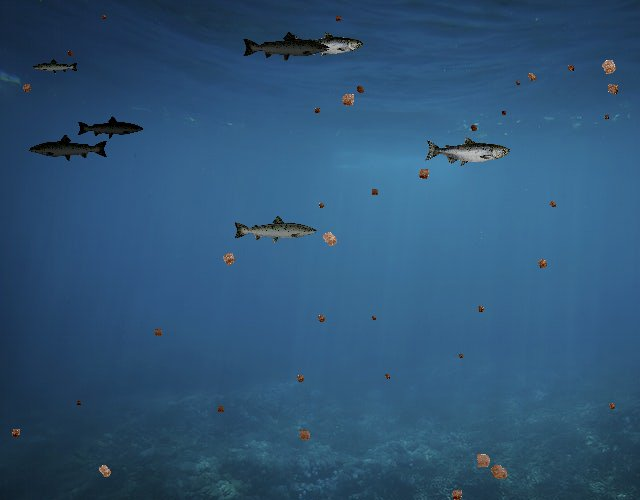Fish: (241, 31, 331, 63), (232, 214, 318, 245), (424, 136, 510, 167), (29, 133, 110, 162), (291, 32, 364, 58), (77, 116, 145, 140), (33, 59, 80, 76)
Pellet: (314, 223, 344, 254), (469, 447, 497, 475), (489, 462, 513, 486), (532, 253, 552, 273), (315, 200, 328, 213), (332, 13, 344, 25), (456, 350, 466, 360)
